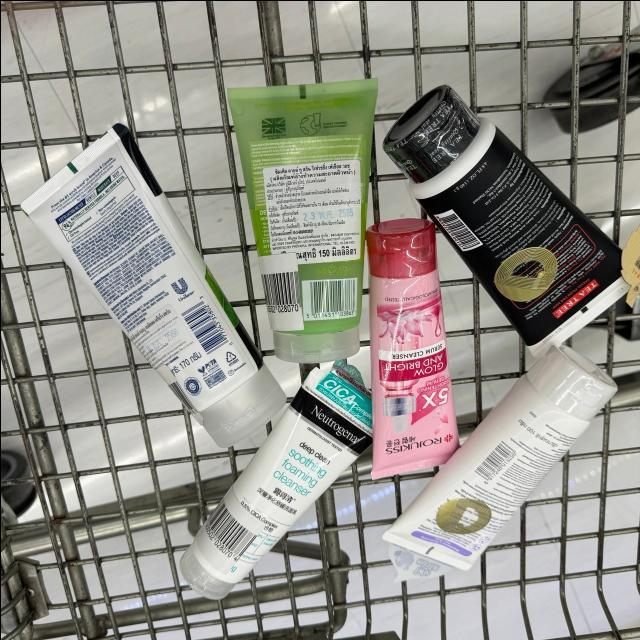Squeeze Tube: (16, 120, 291, 453), (384, 82, 627, 367), (380, 345, 624, 571), (172, 361, 370, 602), (227, 82, 375, 358), (365, 217, 457, 475)
